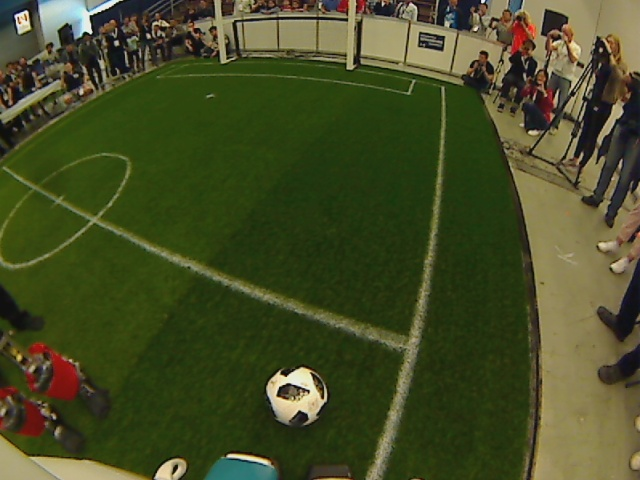ball: (264, 361, 331, 430)
